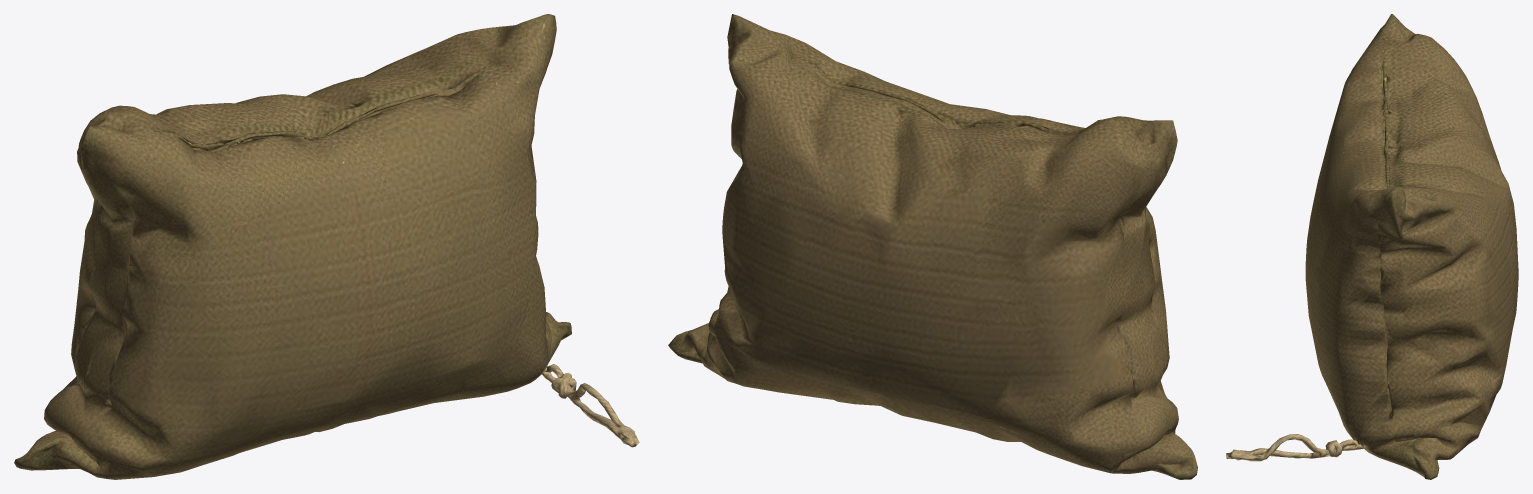
File: kum_torbasi_2.glb
The picture shows the model from 3 angles, left to right: view 1: azimuth 30°, elevation 25°; view 2: azimuth 150°, elevation 25°; view 3: azimuth 270°, elevation 25°; orthographic projection. The views are drawn at different scales.
Parts seen in each view (by area): view 1: kok; view 2: kok; view 3: kok.
Boxes of the visible parts, x1,y1,x2,y2 form: kok: (14, 14, 639, 479); kok: (668, 14, 1197, 479); kok: (1226, 14, 1518, 479).
Size of the model in its own units: 0.6 by 0.3625 by 0.3462.
Materials: 1 (1 with a texture image).
